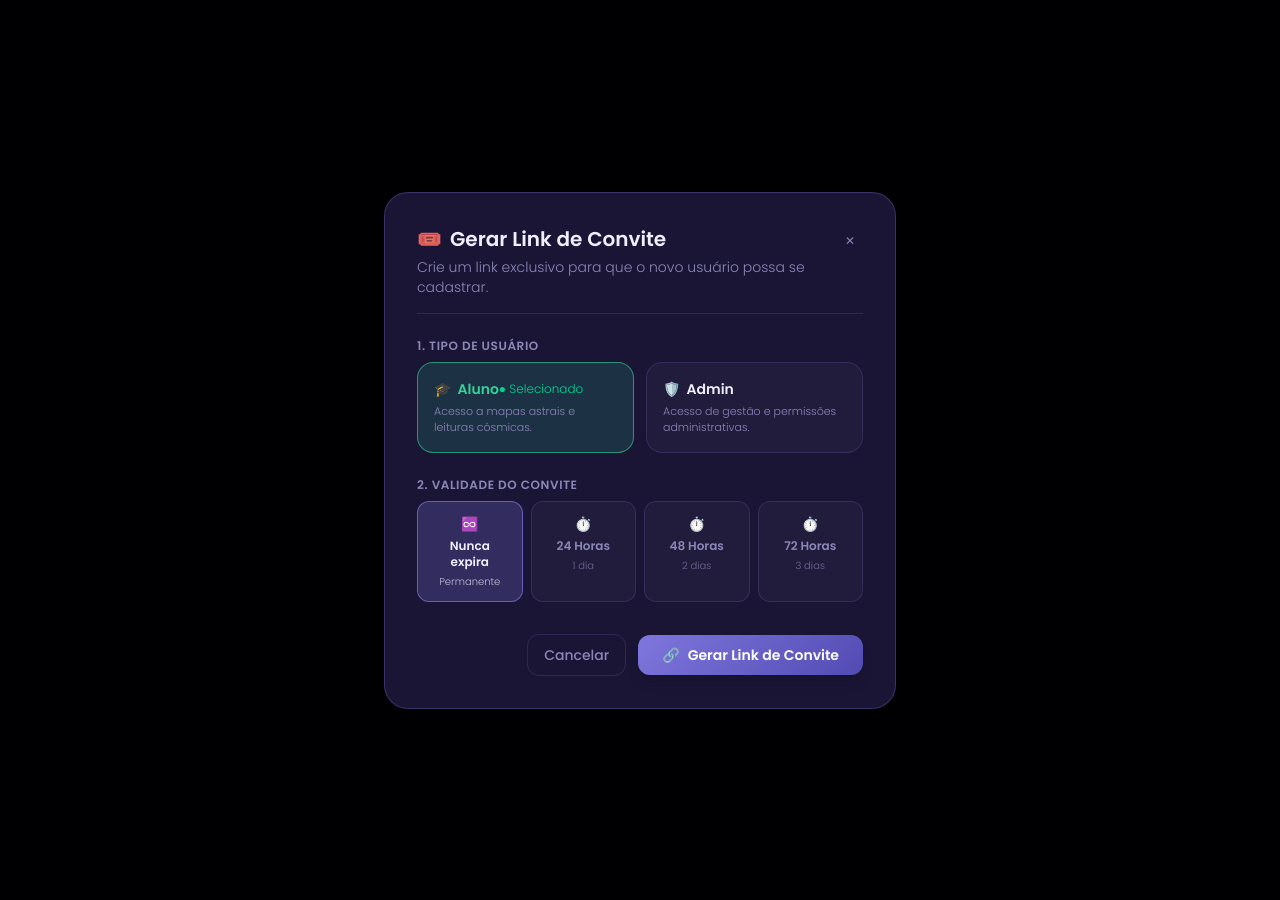
GerarConviteModal Component › permite selecionar Admin e validade 24h e enviar para a API
# Selecionar Admin
Click the button with test id "role-option-admin": (754, 407) [646,362,863,452]
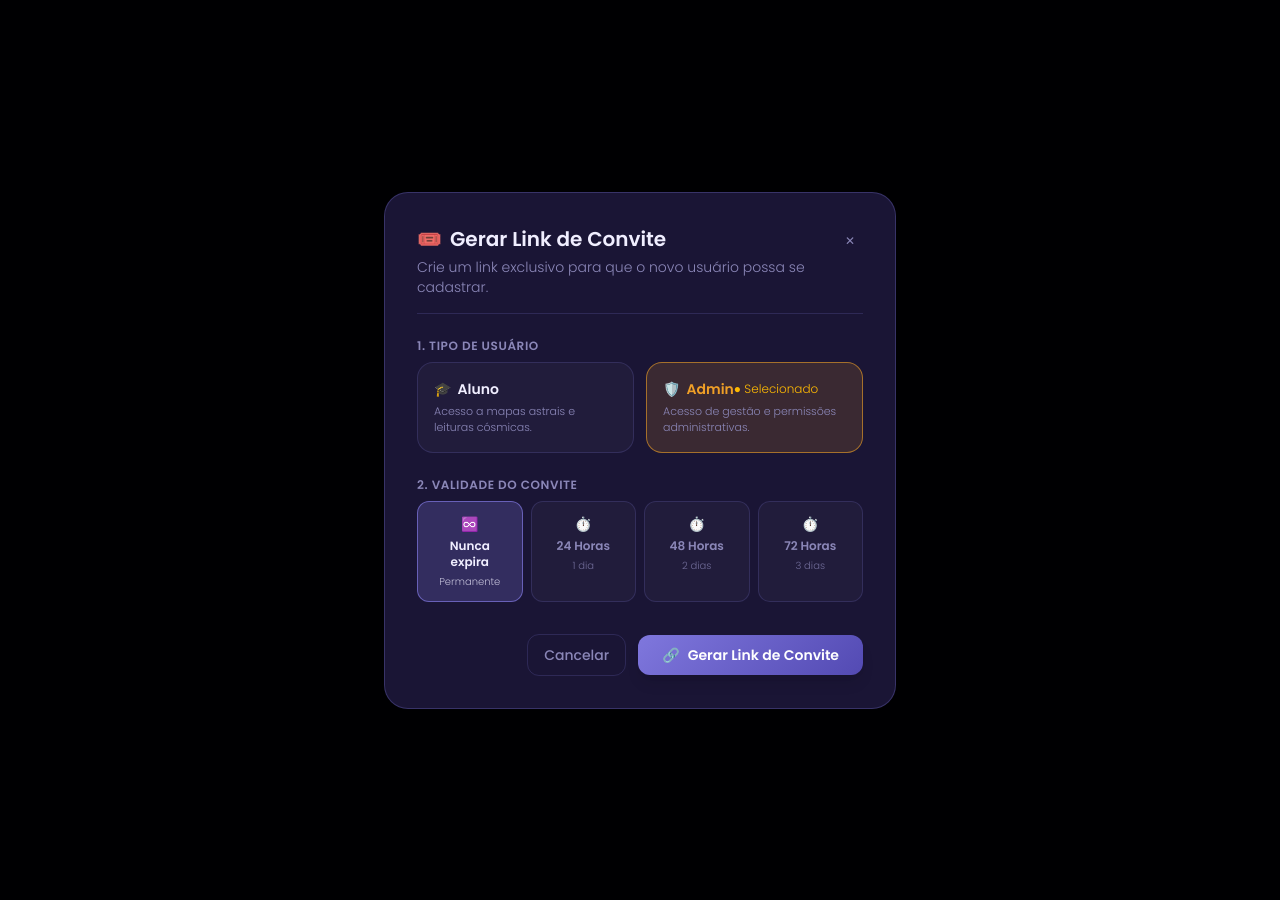
# Selecionar validade 24h
Click the button with test id "validity-option-24h": (583, 551) [530,500,636,602]
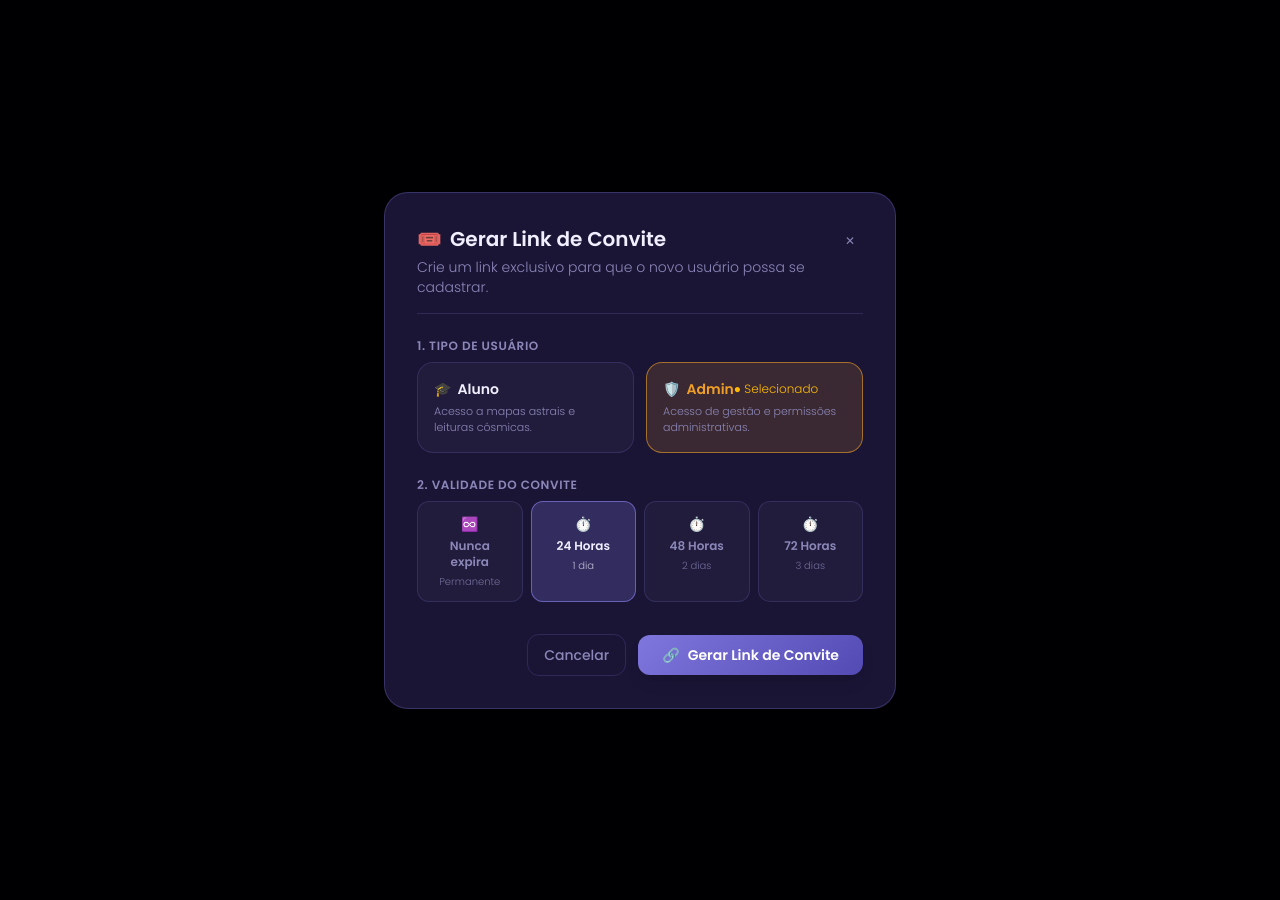
Click the button with test id "submit-generate-invite-btn": (751, 654) [638,634,863,674]
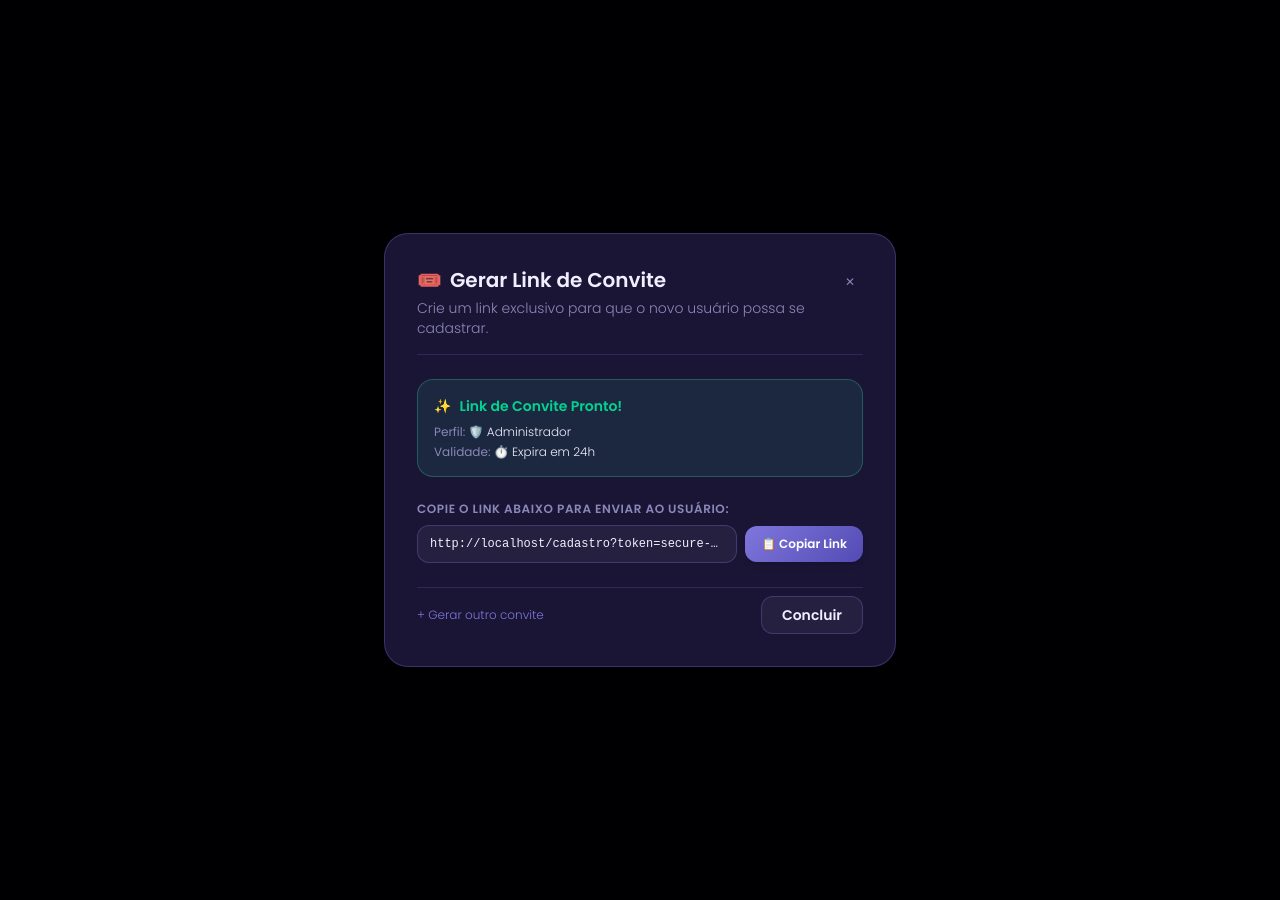
Now the element with test id "generated-invite-view" is shown, box [417,379,863,634]
Now the text "Link de Convite Pronto!" is shown, box [460,396,622,416]
